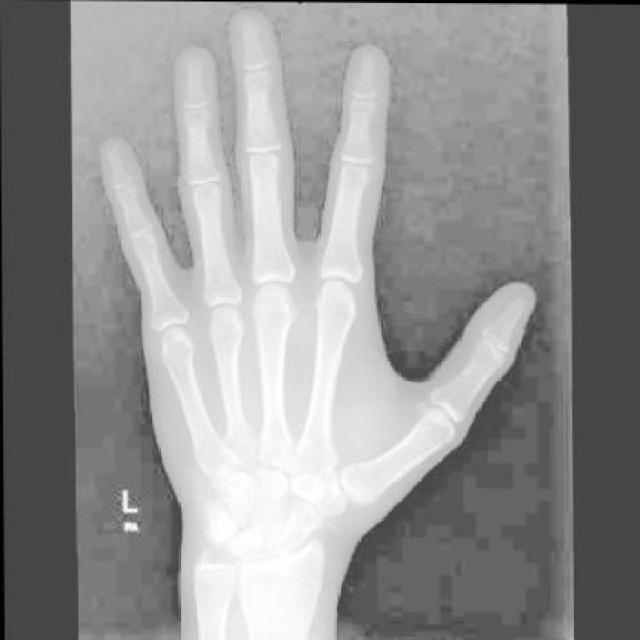Fracture: (205, 509, 236, 542)
